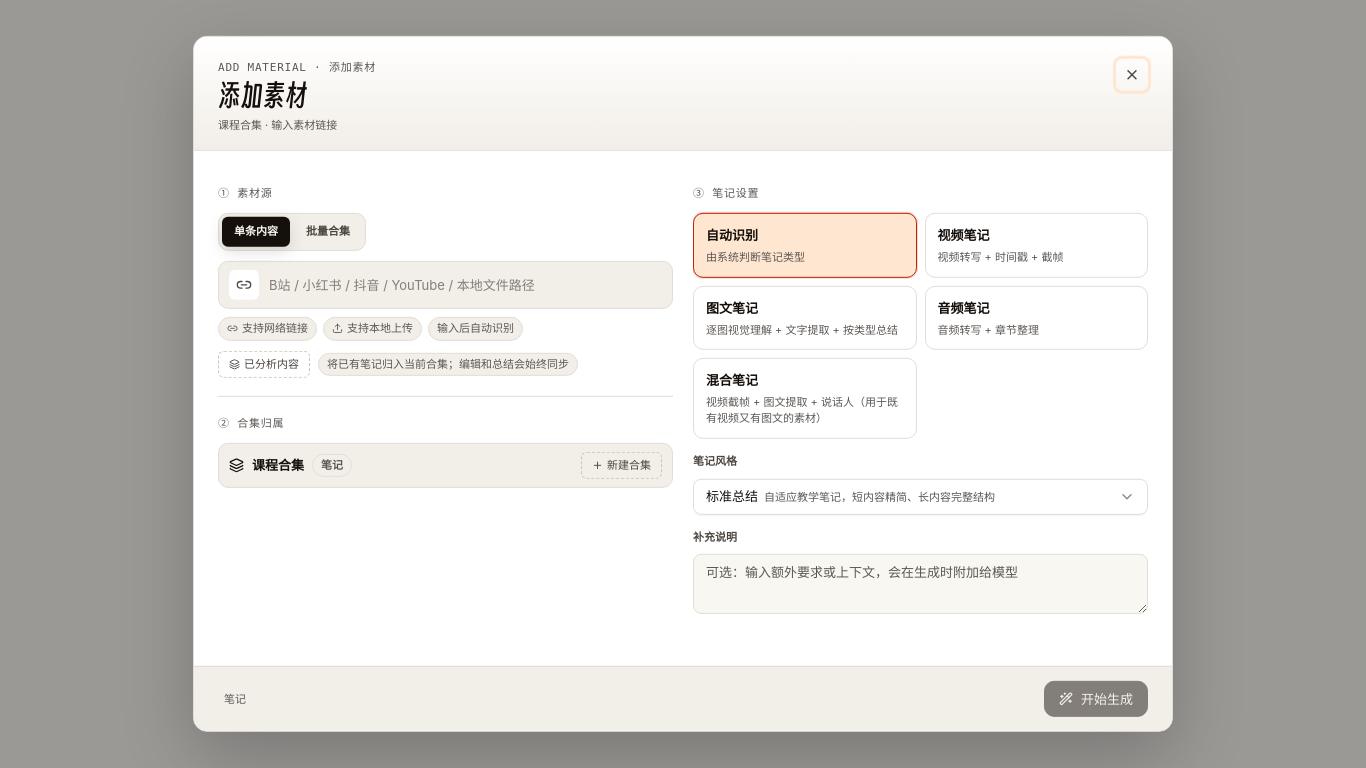
Test case: AddMaterialModal › 双击当前合集名可重命名
Double-click the text "课程合集".
double_click(278, 465)  # box [252,455,304,476]
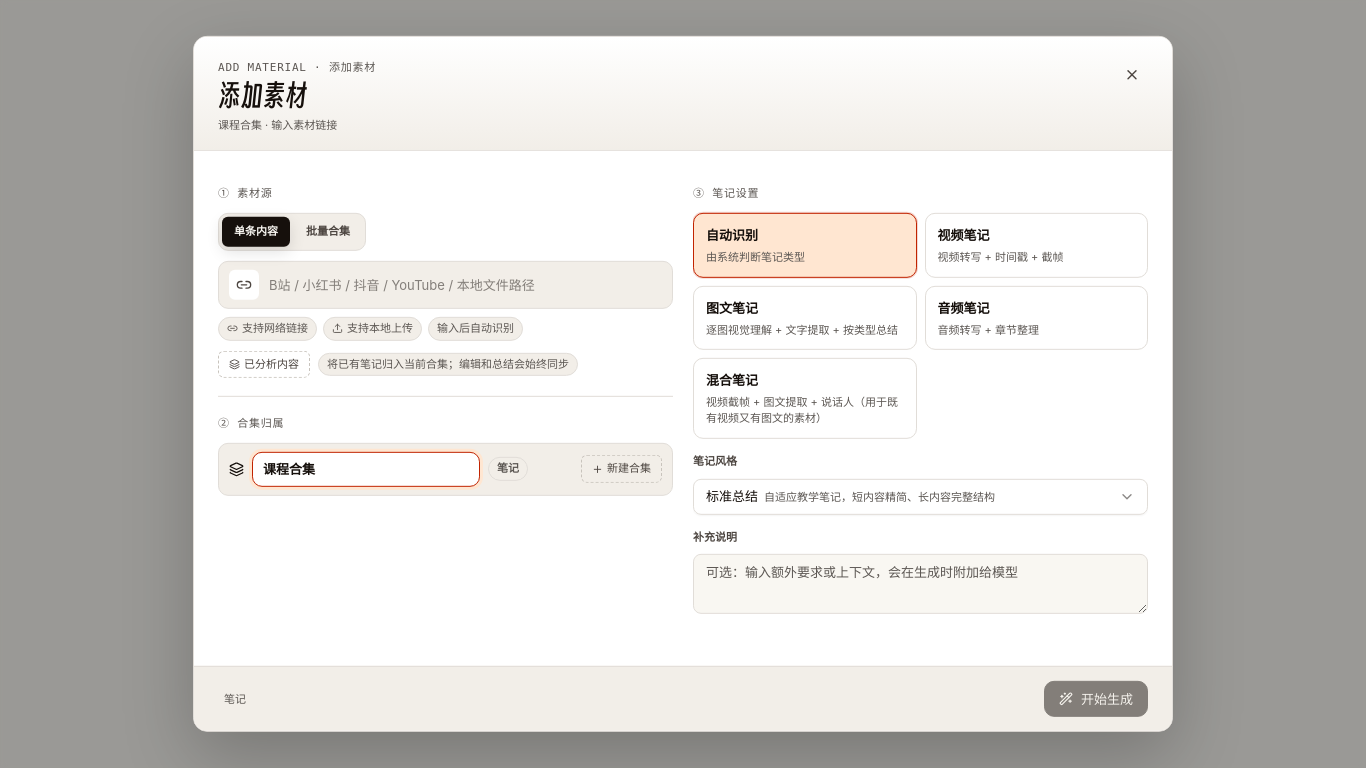
Replace the text in the field showing "课程合集" with "重命名后的合集" at x=366, y=469, box [252,452,480,486]
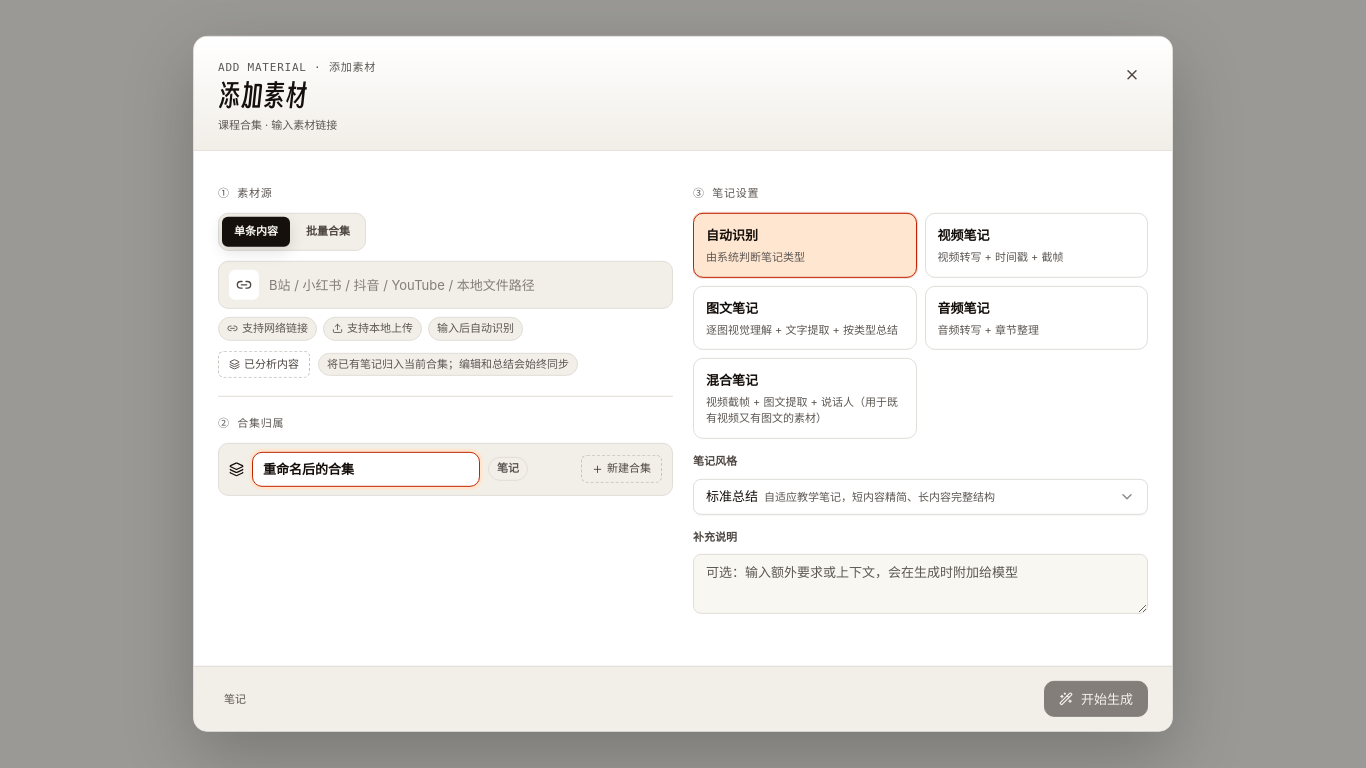
Press Enter in the field showing "课程合集", box [252,452,480,486]
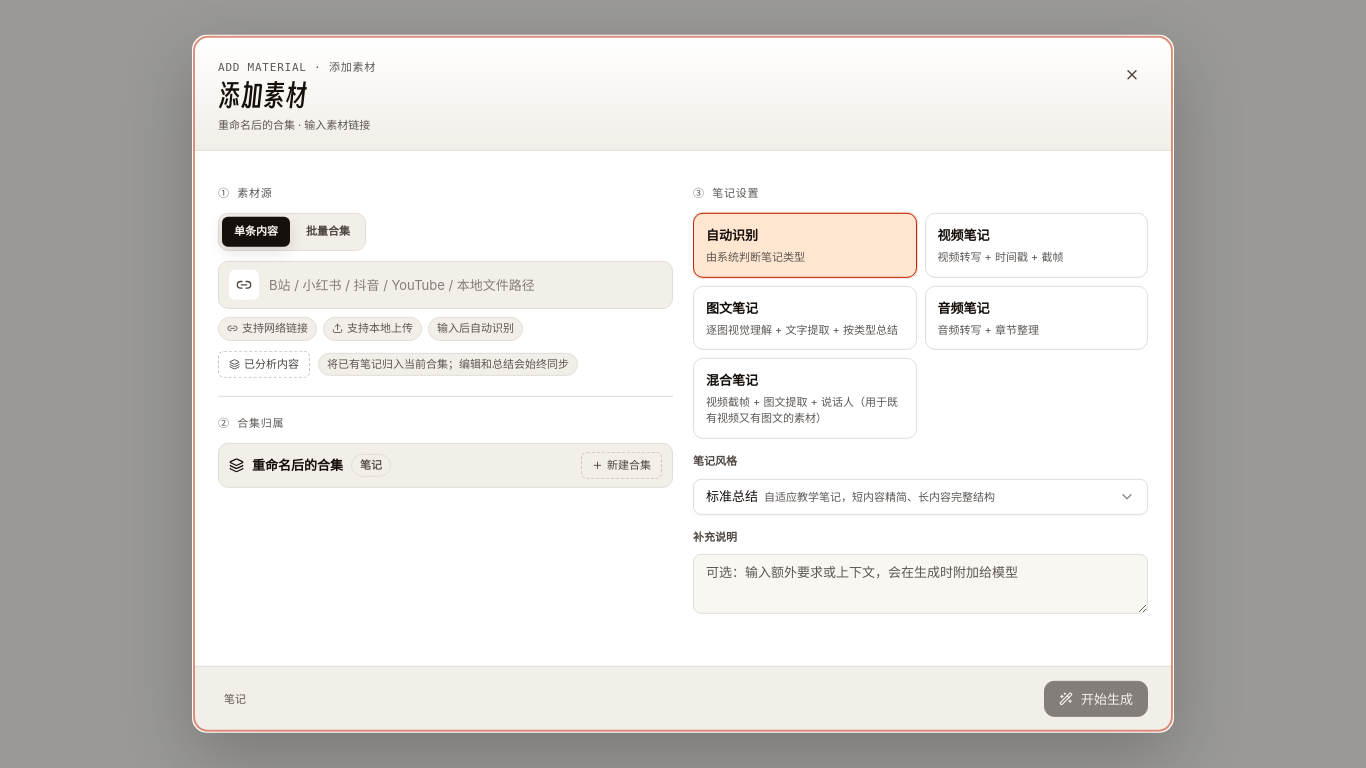
Expected: the text "重命名后的合集" is shown, [252,455,343,476]
